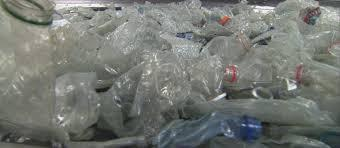Plastic bottle: (0, 2, 340, 148)
